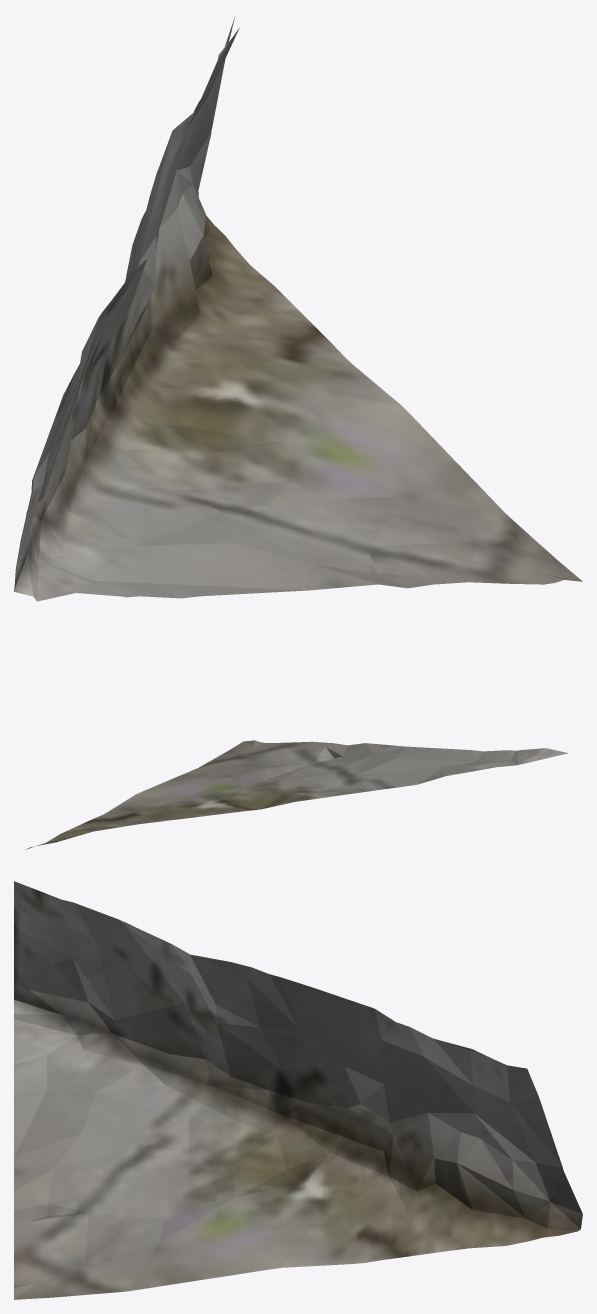
3 renders of one model, top to bottom at view 1: azimuth 30°, elevation 25°; view 2: azimuth 150°, elevation 25°; view 3: azimuth 270°, elevation 25°, orthographic. The views are drawn at different scales.
Size of the model in its own units: 0.3473 by 0.1826 by 0.4071.
Materials: 1 (1 with a texture image).
